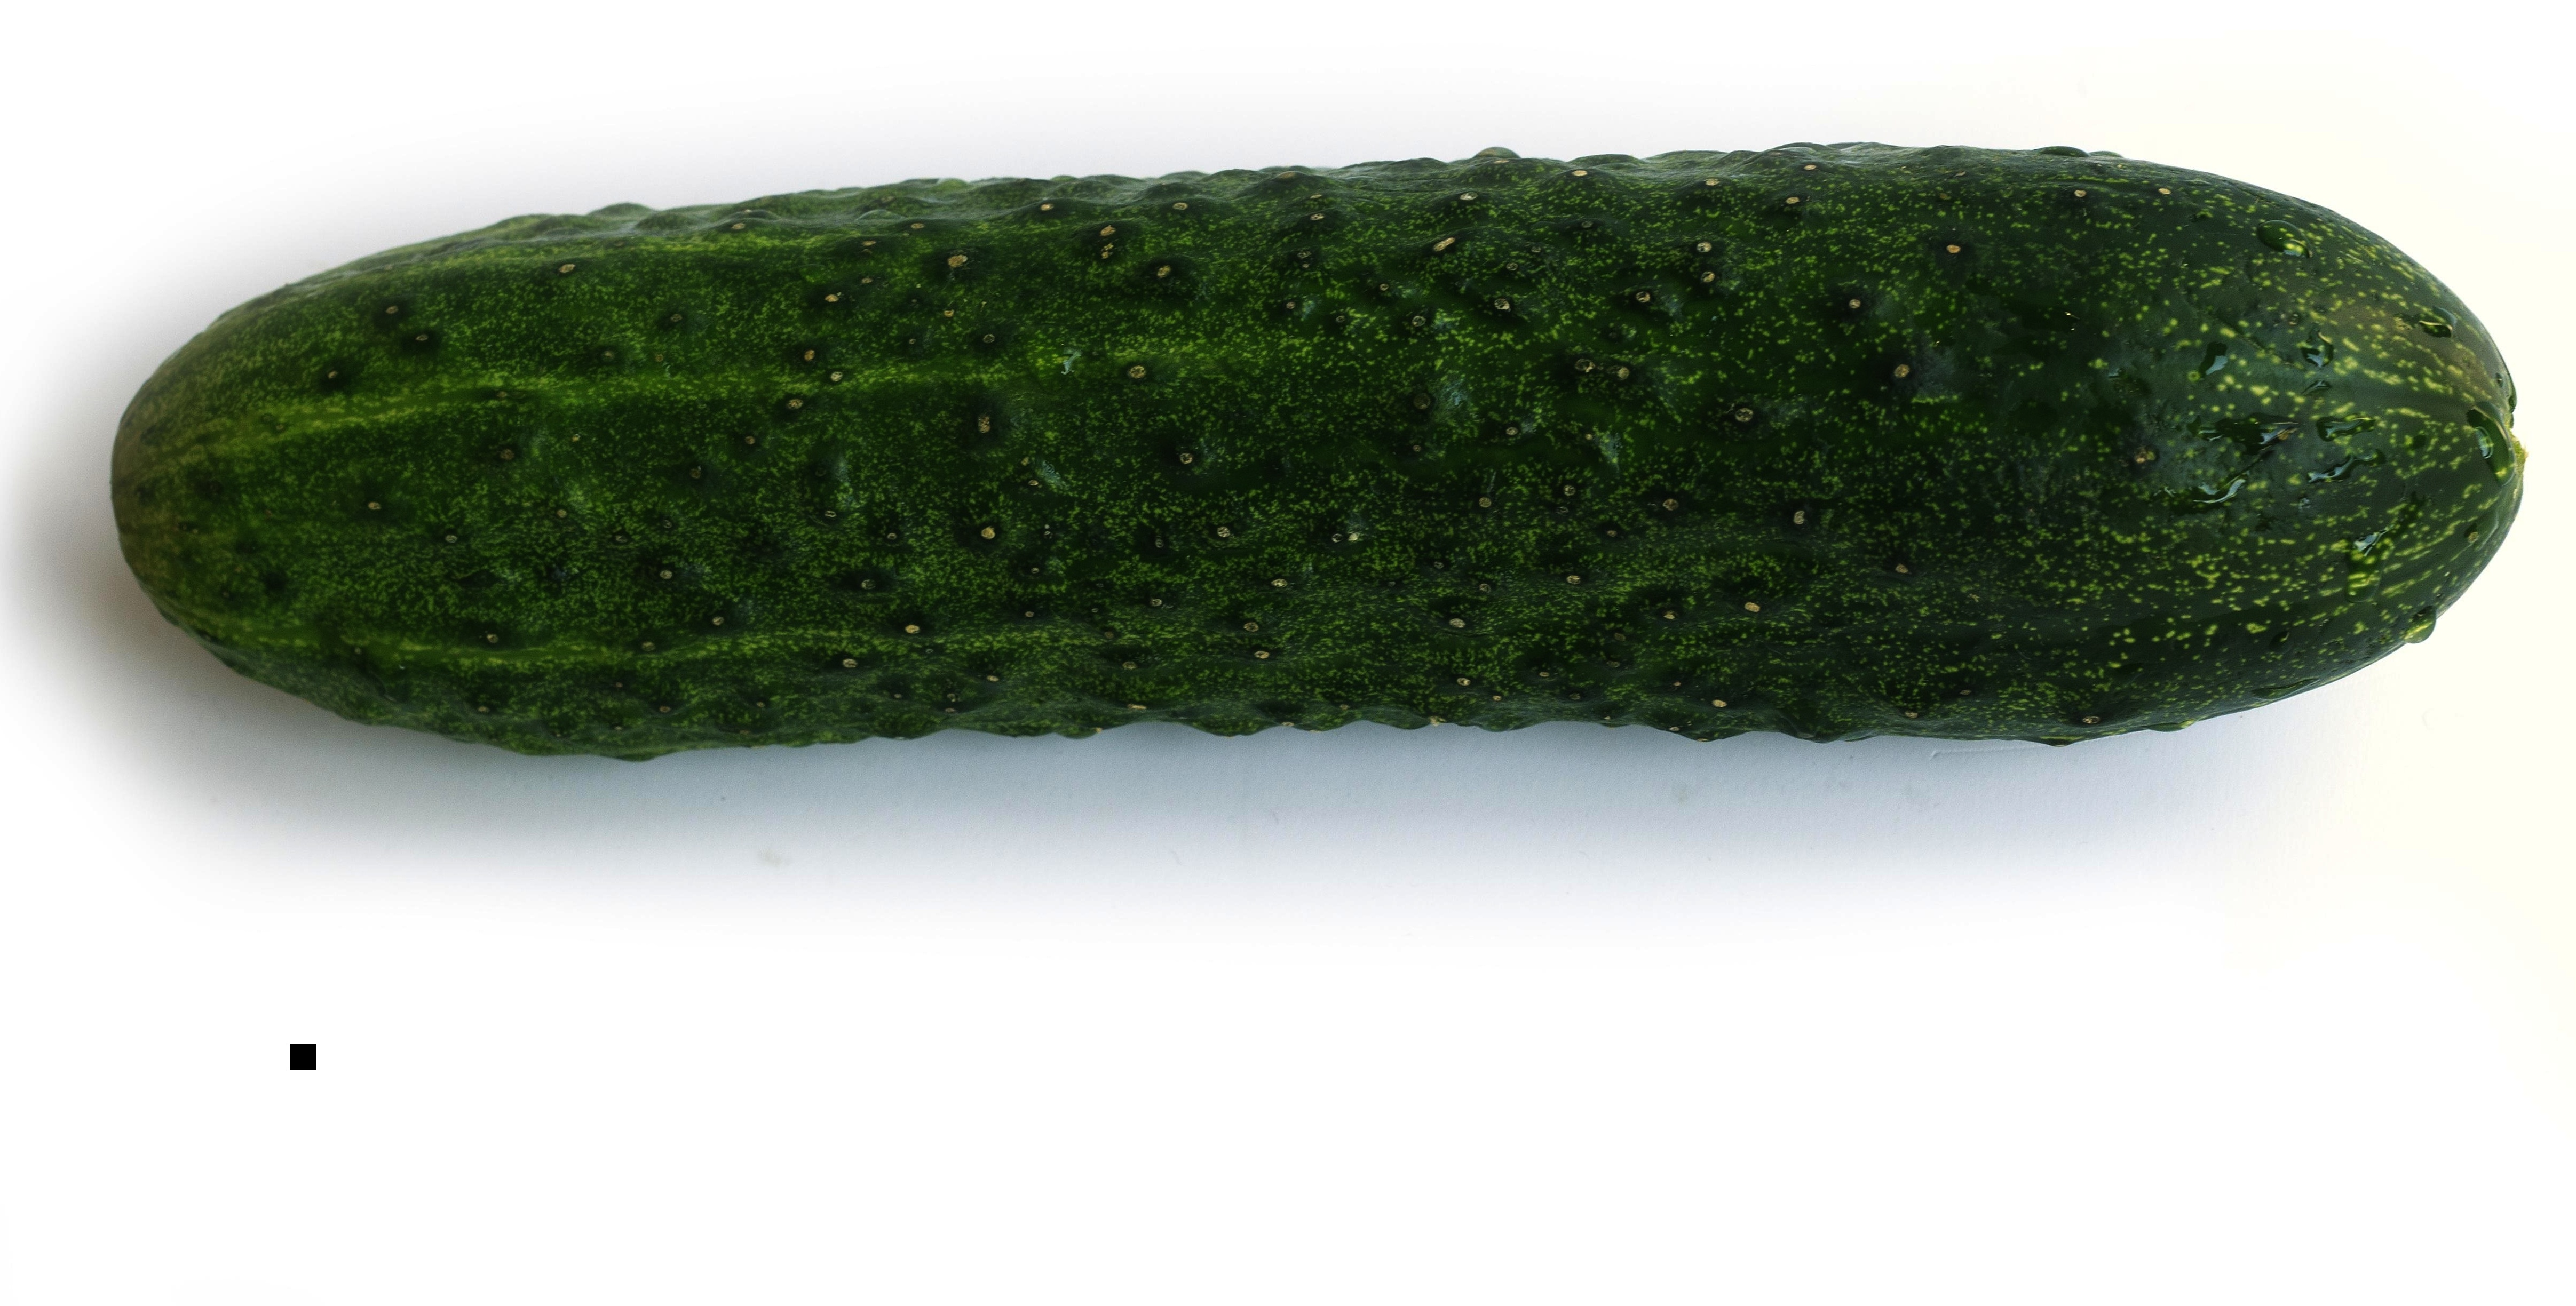cucumber: (88, 147, 2534, 803)
